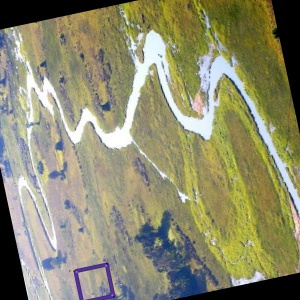square: (71, 261, 118, 300)
